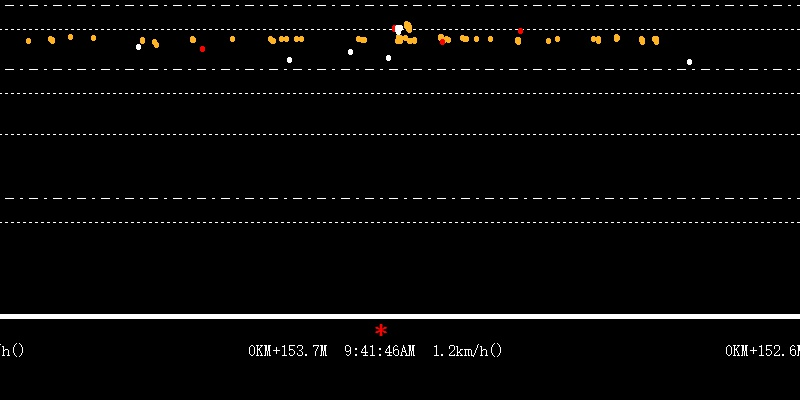face_2: (391, 21, 412, 35)
star: (373, 320, 389, 339)
